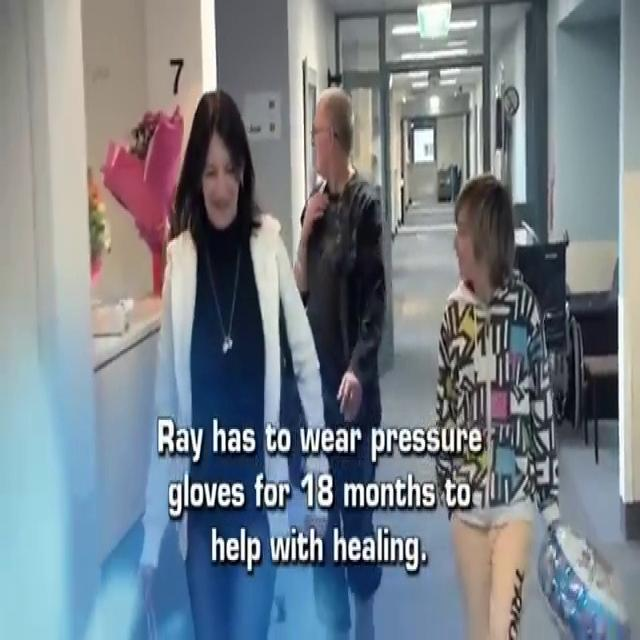others: (146, 87, 331, 638), (433, 171, 562, 638), (290, 84, 387, 636)
